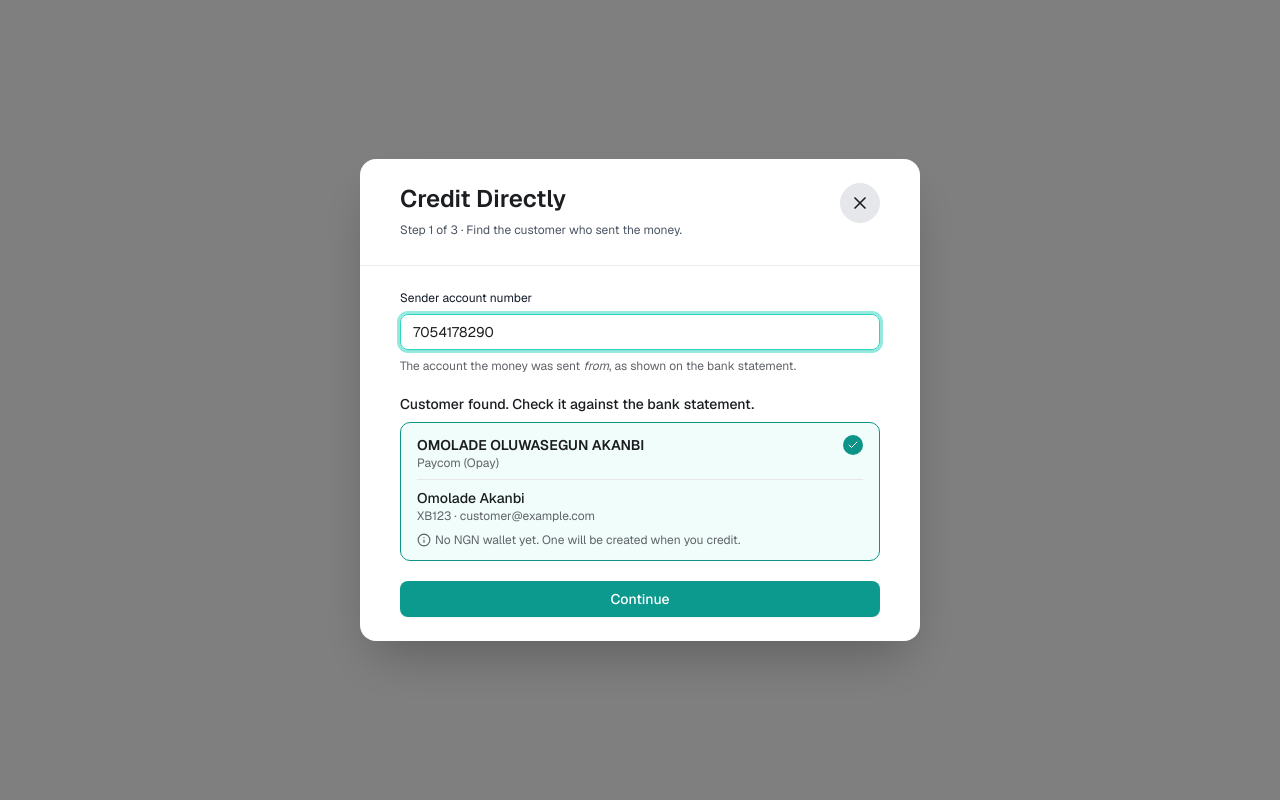
Test case: CreditDirectlyModal: finding the customer › lets a customer with no NGN wallet through, with a note: the credit creates the wallet
The image size is (1280, 800).
Expected: the text "No NGN wallet yet. One will be created when you credit." is shown, [417,532,740,548]
Expected: the radio button labelled "OMOLADE OLUWASEGUN AKANBI" is checked, [400,422,880,561]
Click the button "Continue" at (640, 599), box [400,581,880,617]
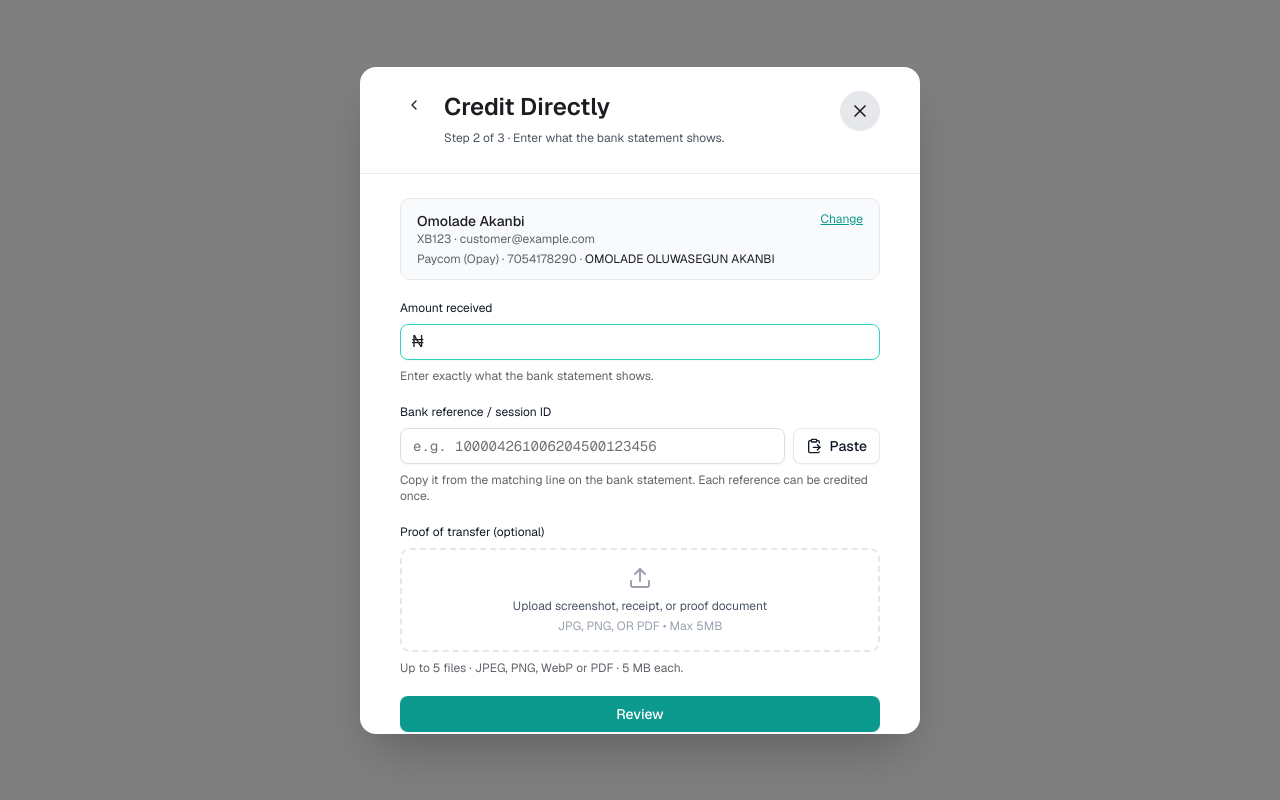
Now the field labelled "Amount received" is shown
Type "2000" into the field labelled "Amount received" at (640, 342), box [400,324,880,360]
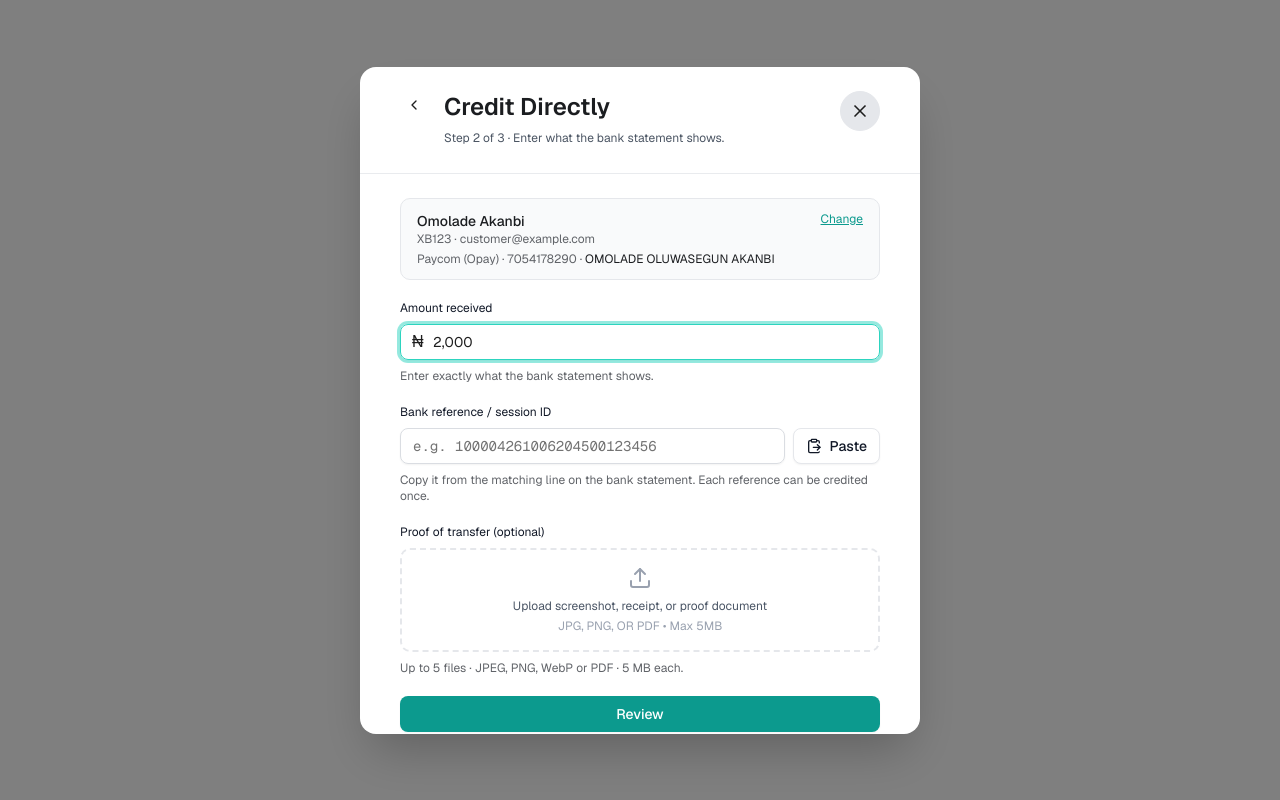
Type "100004261006204500123456" into the field labelled "Bank reference / session ID" at (592, 446), box [400,428,785,464]
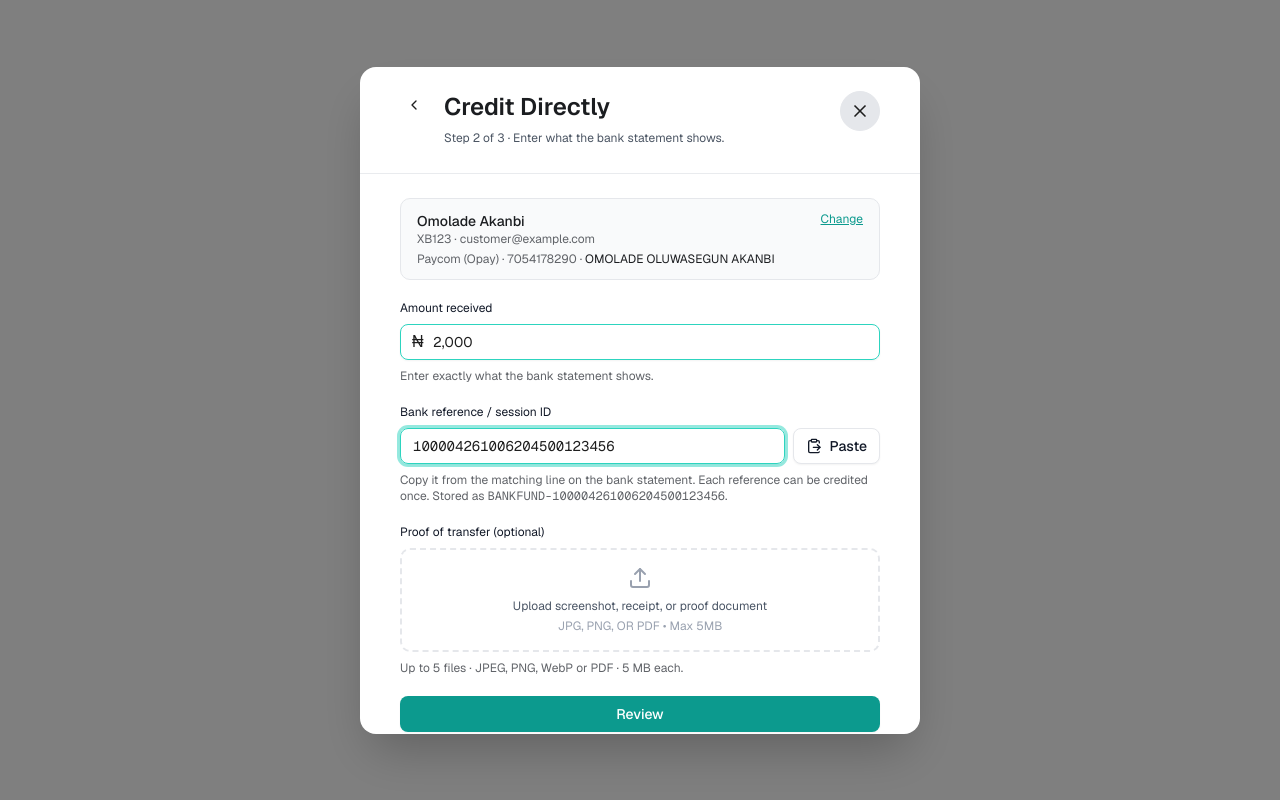
Click the button "Review" at (640, 714), box [400,696,880,732]
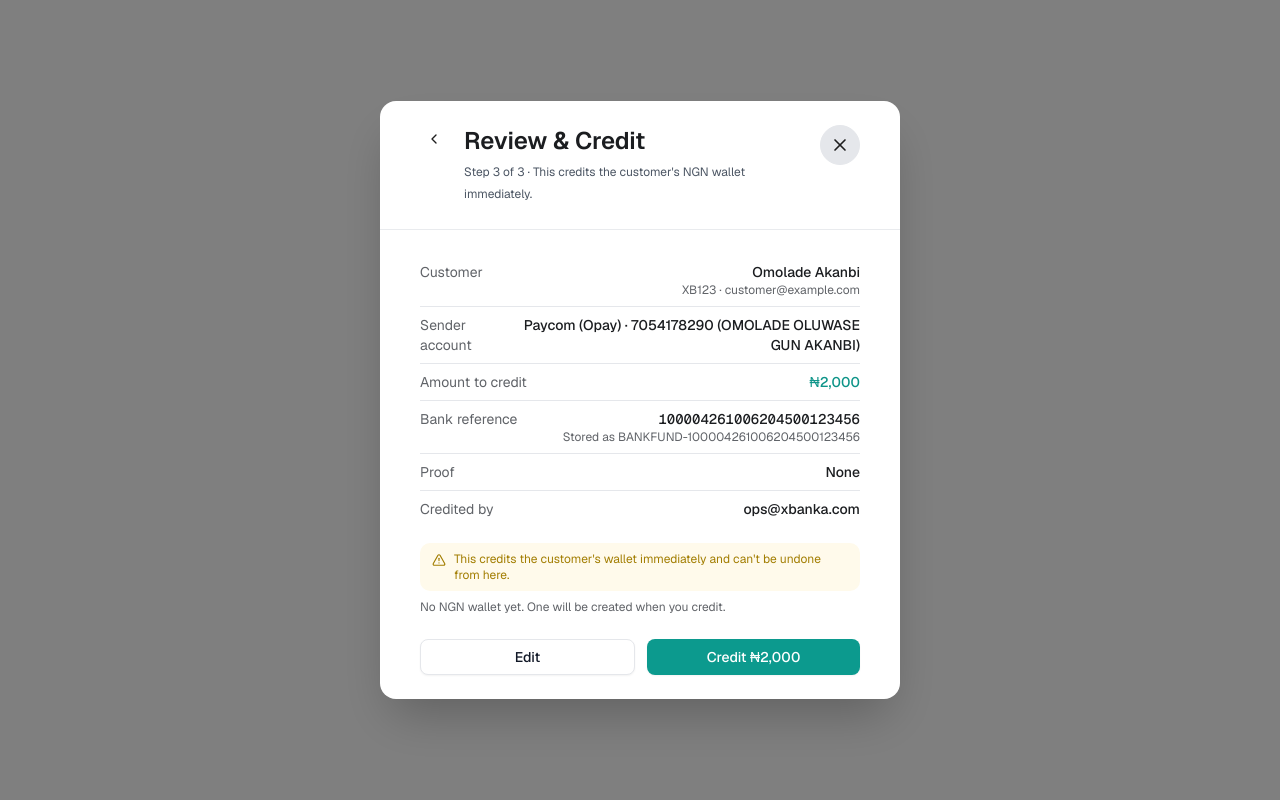
Now the heading "Review & Credit" is shown, box [464,125,645,156]
Now the text "No NGN wallet yet. One will be created when you credit." is shown, box [420,599,725,615]
